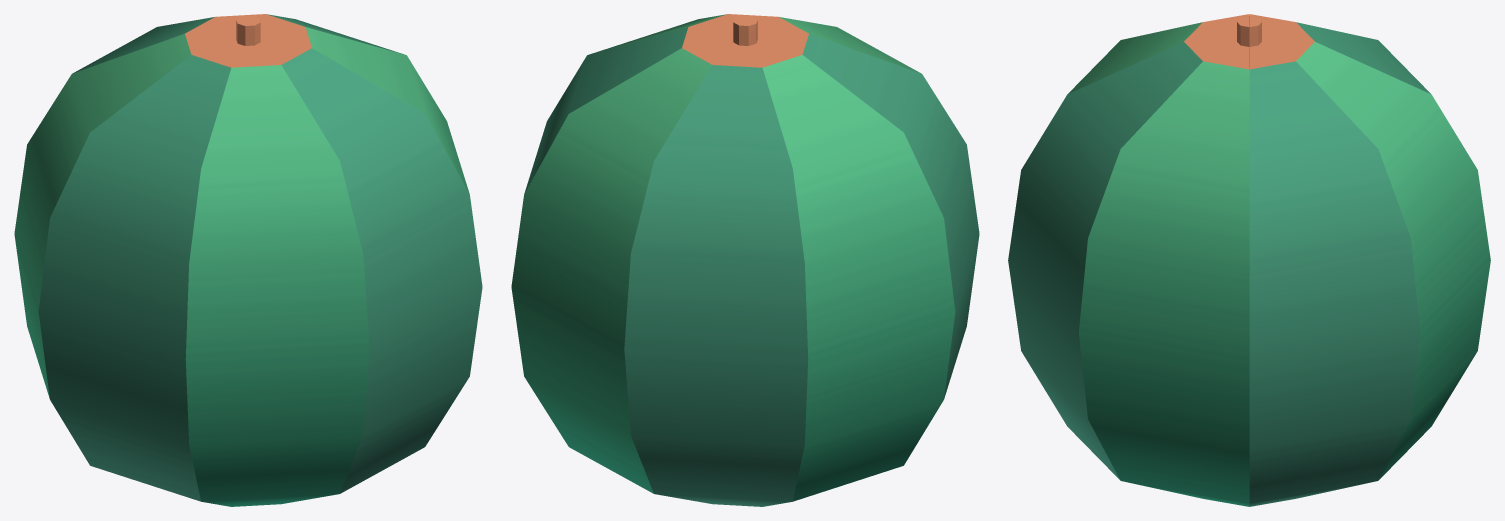
Rendered from watermelon.obj.
The picture shows the model from 3 angles, left to right: view 1: azimuth 30°, elevation 25°; view 2: azimuth 150°, elevation 25°; view 3: azimuth 270°, elevation 25°; orthographic projection.
Parts seen in each view (by area): view 1: slice; view 2: slice; view 3: slice.
Part boxes in pixels (x1=…): slice: x1=14, y1=14, x2=482, y2=506; slice: x1=511, y1=14, x2=979, y2=506; slice: x1=1008, y1=14, x2=1490, y2=506.
Size of the model in its own units: 0.4554 by 0.4761 by 0.4554.
Materials: 1 (1 with a texture image).
